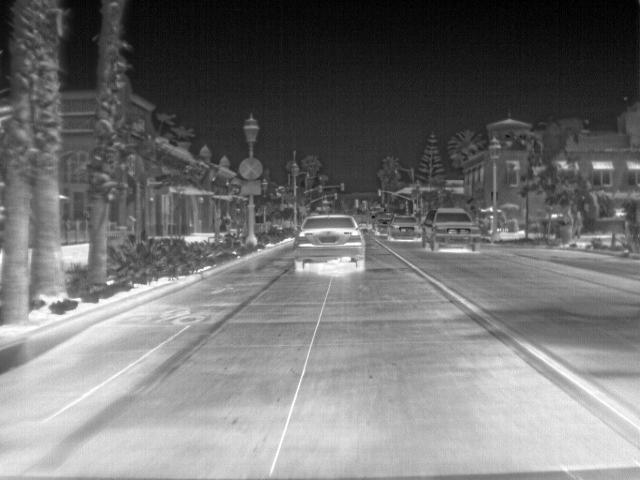car: (292, 212, 368, 271), (419, 207, 481, 251), (388, 216, 419, 240), (375, 212, 395, 234)
person: (563, 208, 575, 235), (572, 211, 584, 236), (221, 212, 234, 232)
